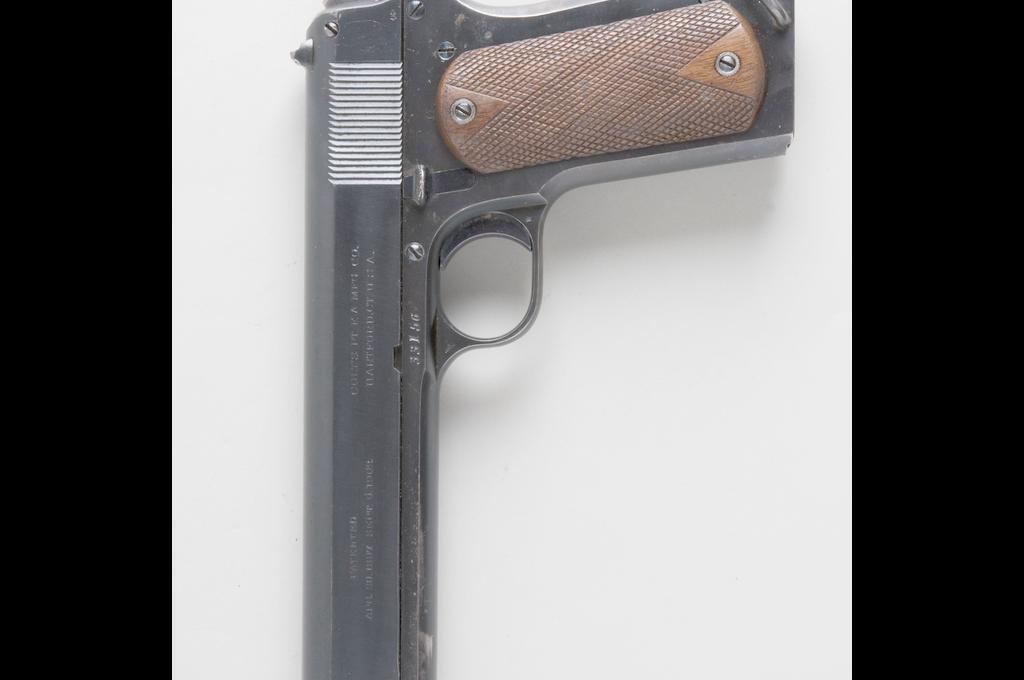gun: (286, 0, 796, 680)
